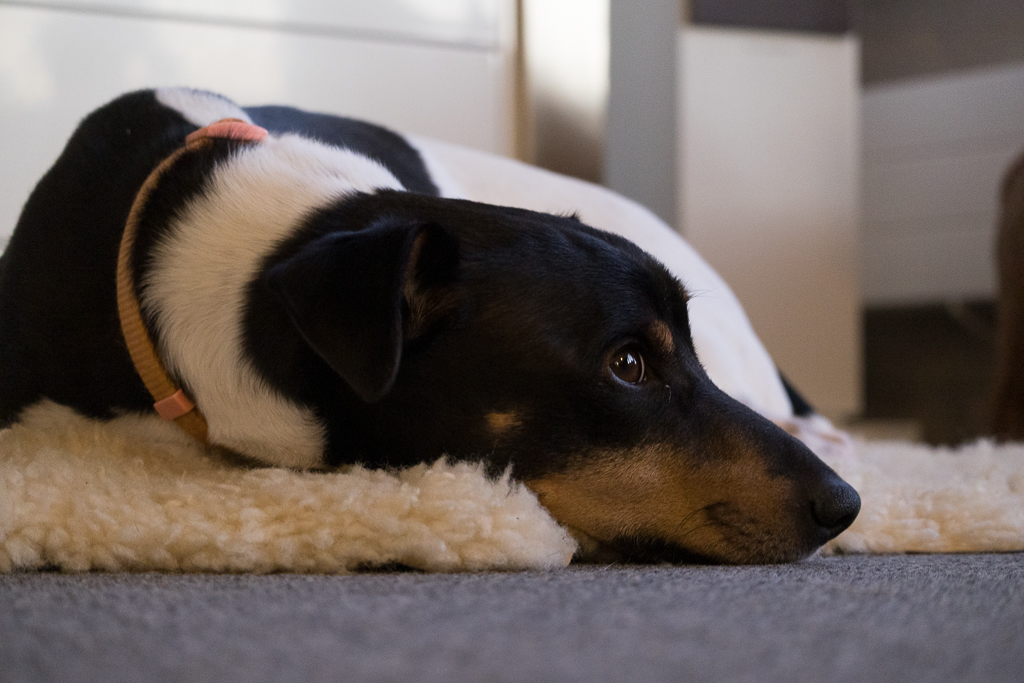Cattle: (974, 132, 1024, 479)
Dog: (0, 74, 888, 574)
